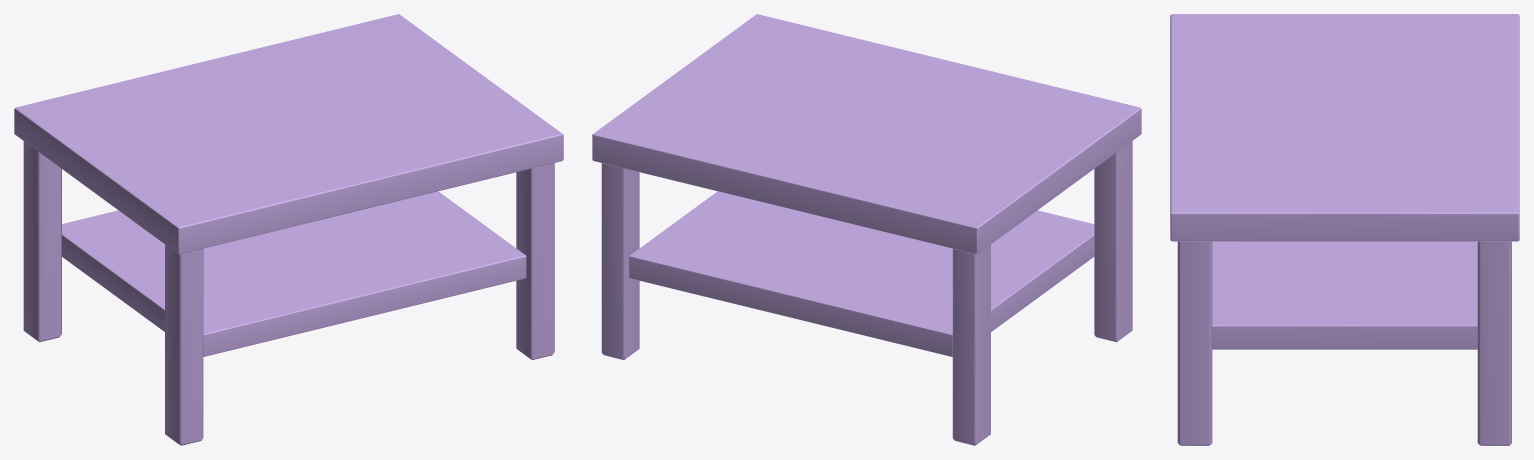
Rendered from Table_purple.glb.
The picture shows the model from 3 angles, left to right: view 1: azimuth 30°, elevation 25°; view 2: azimuth 150°, elevation 25°; view 3: azimuth 270°, elevation 25°; orthographic projection. The views are drawn at different scales.
Parts seen in each view (by area): view 1: Table_11; view 2: Table_11; view 3: Table_11.
Part boxes in pixels (x1=…): Table_11: x1=14, y1=14, x2=563, y2=445; Table_11: x1=592, y1=14, x2=1141, y2=445; Table_11: x1=1170, y1=14, x2=1519, y2=445.
Size of the model in its own units: 1.97 by 1.09 by 1.46.
Materials: 1 (1 with a texture image).
